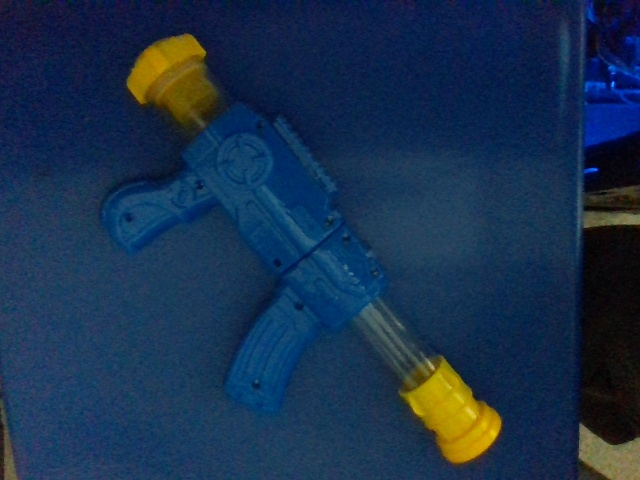screw hole: (124, 212, 135, 223), (340, 233, 352, 243), (325, 214, 335, 225), (370, 266, 380, 276), (195, 180, 204, 190), (255, 119, 264, 129), (273, 258, 282, 268), (252, 379, 261, 389), (295, 302, 305, 311)
toy: (99, 34, 502, 463)
